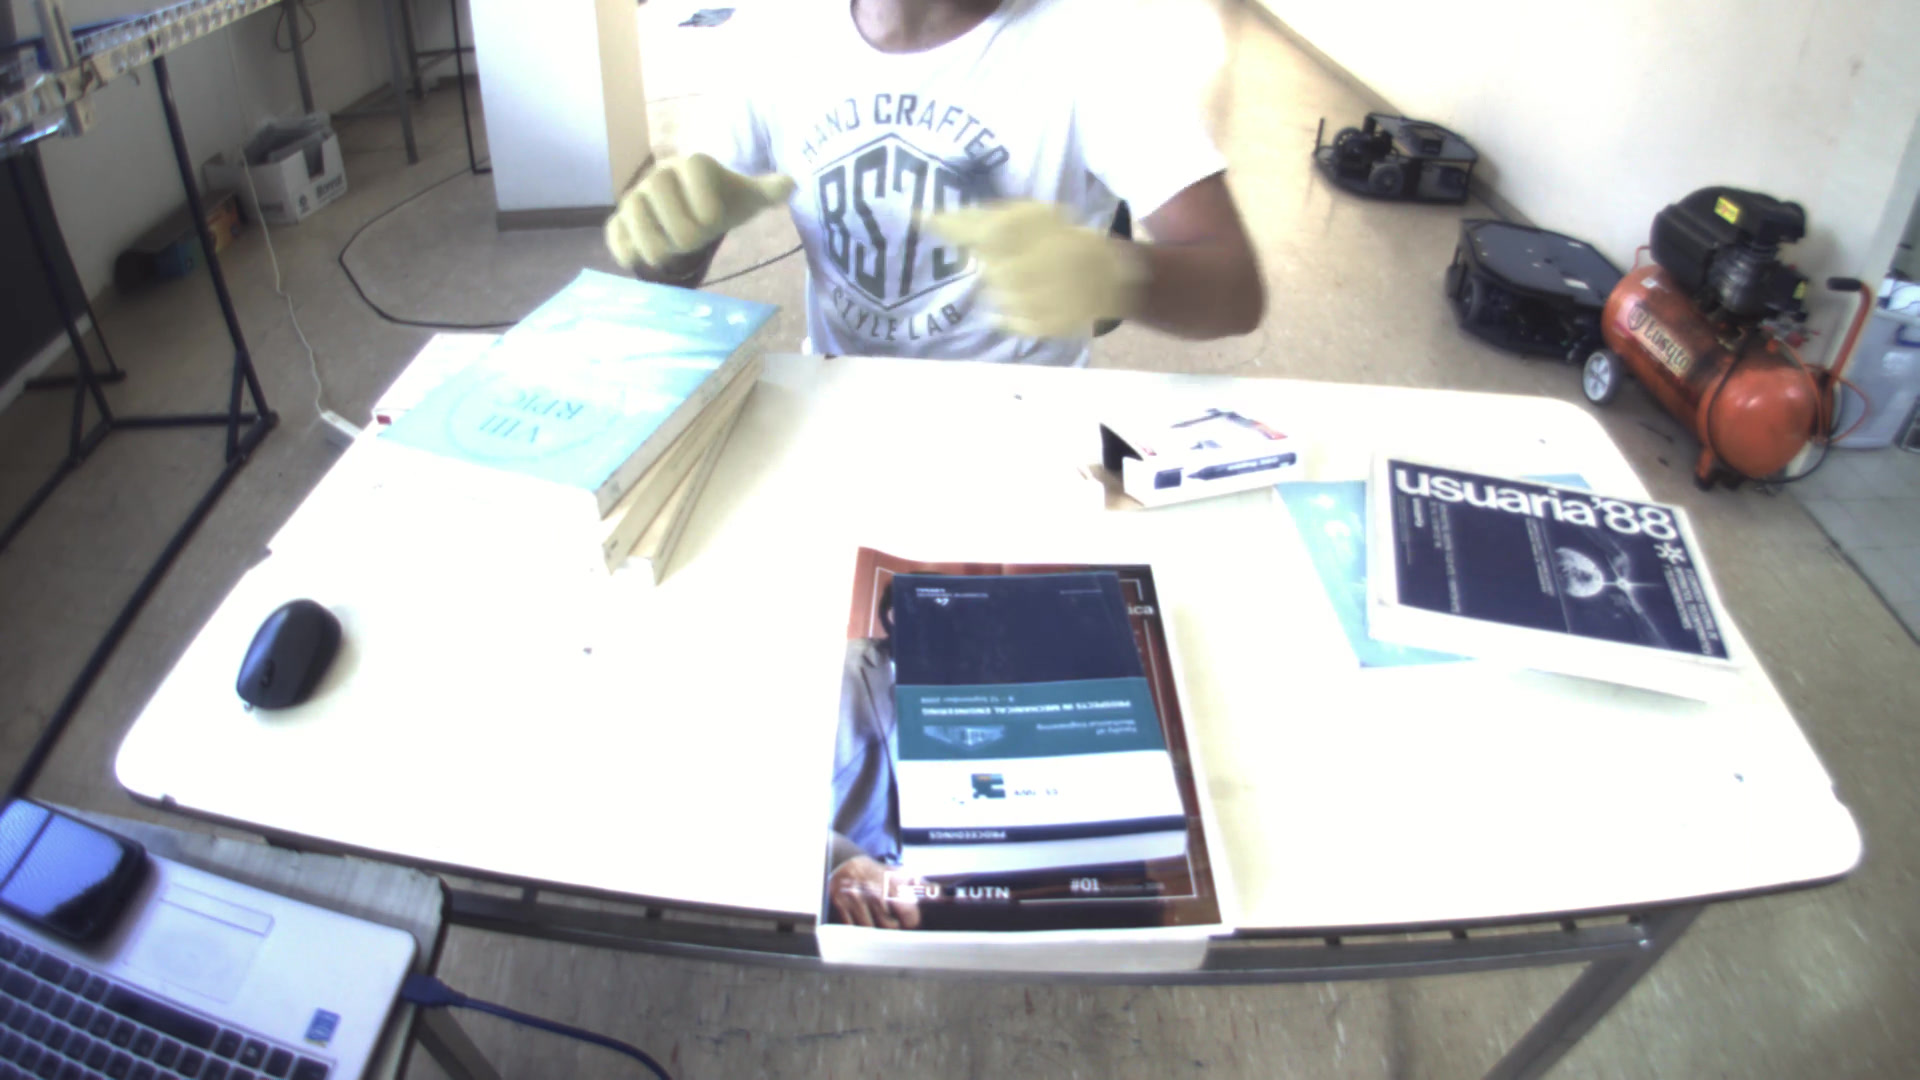hand: (922, 182, 1159, 339), (585, 140, 804, 266)
